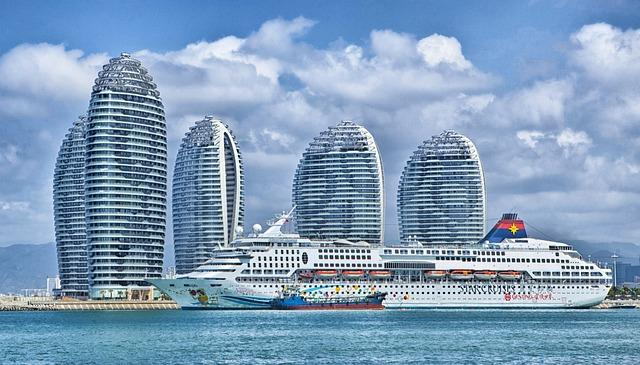Ship: (151, 215, 611, 310), (272, 290, 387, 311)
